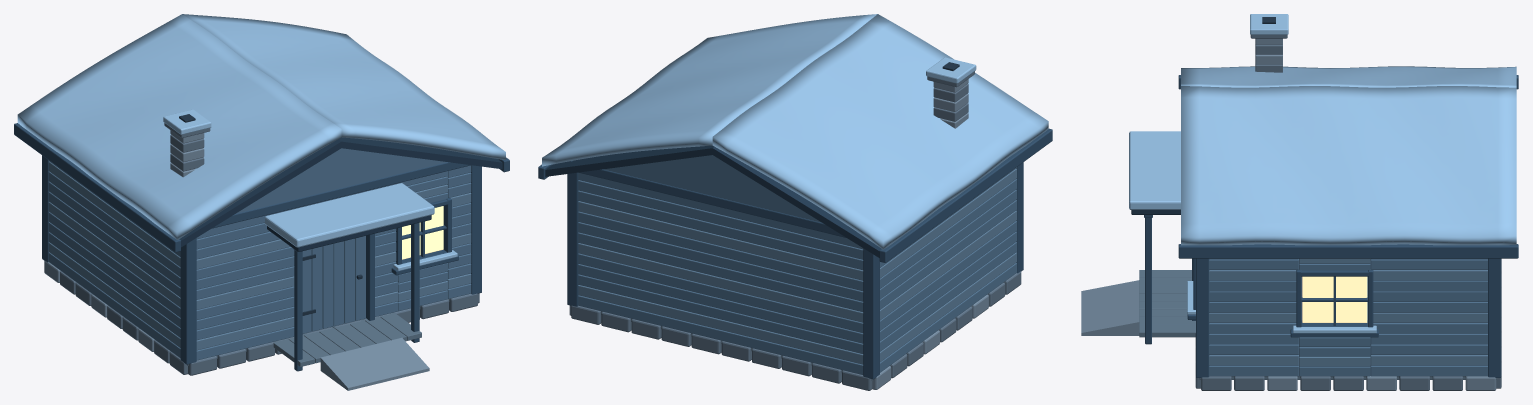
The model's file is storage_cabin.glb.
3 renders of one model, left to right at view 1: azimuth 30°, elevation 25°; view 2: azimuth 150°, elevation 25°; view 3: azimuth 270°, elevation 25°, orthographic. The views are drawn at different scales.
Visible parts, largest first — view 1: Roof, Wall_Front, Wall_West, Porch, DoorLeaf, Foundation, Chimney, DoorFrame, Wall_Back; view 2: Roof, Wall_Back, Wall_West, Foundation, Chimney, Wall_Front; view 3: Roof, Wall_East, Porch, Foundation, Wall_Front, Chimney, Wall_Back.
Part boxes in pixels (bbox=[...]): Roof: bbox=[14, 14, 509, 252]; Wall_Front: bbox=[180, 148, 481, 364]; Wall_West: bbox=[48, 160, 180, 358]; Porch: bbox=[273, 222, 429, 390]; DoorLeaf: bbox=[302, 236, 365, 333]; Foundation: bbox=[44, 260, 479, 375]; Chimney: bbox=[163, 109, 211, 177]; DoorFrame: bbox=[366, 233, 374, 320]; Wall_Back: bbox=[42, 155, 48, 262]; Roof: bbox=[538, 14, 1052, 262]; Wall_Back: bbox=[567, 155, 879, 379]; Wall_West: bbox=[880, 167, 1016, 372]; Foundation: bbox=[569, 271, 1021, 390]; Chimney: bbox=[926, 57, 976, 128]; Wall_Front: bbox=[1016, 162, 1023, 273]; Roof: bbox=[1129, 66, 1518, 258]; Wall_East: bbox=[1209, 258, 1487, 376]; Porch: bbox=[1081, 215, 1195, 344]; Foundation: bbox=[1195, 259, 1501, 390]; Wall_Front: bbox=[1187, 258, 1209, 377]; Chimney: bbox=[1250, 14, 1288, 72]; Wall_Back: bbox=[1488, 258, 1501, 377].
Bounding box in the file's own units: 7.4 × 4.77 × 7.93.
